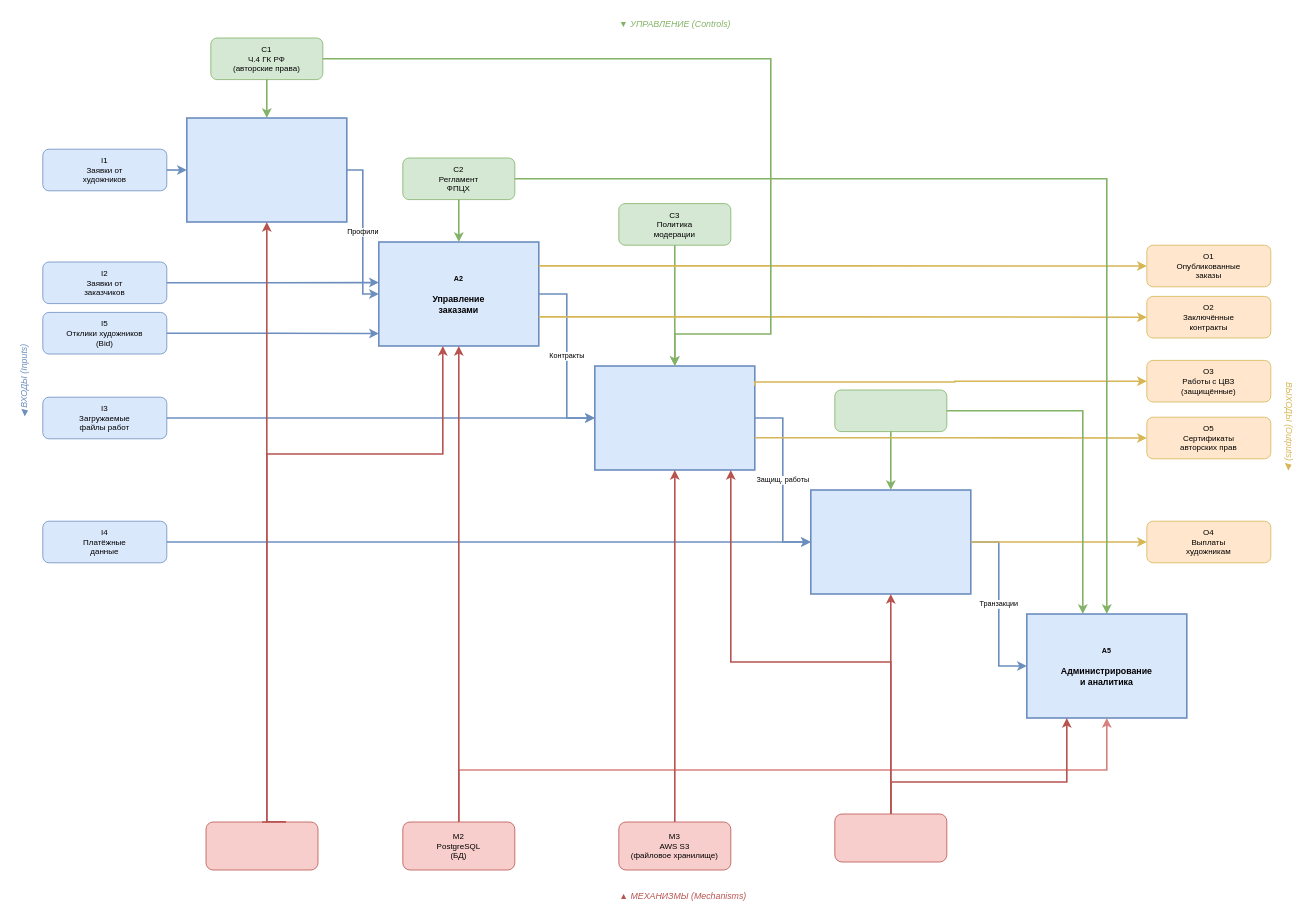
Image size: 1313x917. Some labels were removed from this diagram. Each missing label, with the centre of its shape:
A1 Управление профилями и портфолио: [266,169]
A3 Защита авторских прав (ЦВЗ): [674,417]
A4 Платёжный модуль (Эскроу): [890,541]
C4 152-ФЗ + Тарифная политика: [890,410]
M1 Java Spring Boot / REST API: [261,845]
M4 Платёжный шлюз + Сервис ЦВЗ: [890,837]
